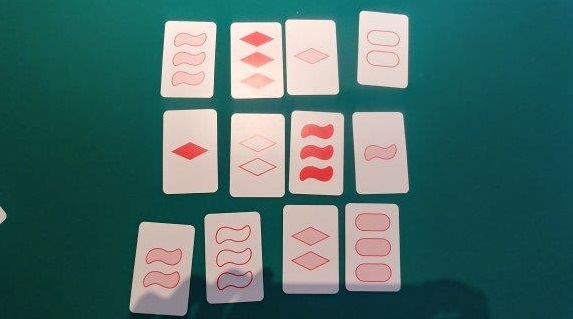1FD: (164, 113, 213, 189)
1HD: (288, 21, 334, 91)
1HW: (357, 112, 400, 189)
2ED: (233, 114, 280, 192)
2EP: (361, 15, 402, 81)
2HD: (284, 206, 335, 291)
2HW: (140, 226, 185, 309)
3EW: (205, 213, 257, 300)
3FD: (230, 21, 277, 94)
3FW: (294, 112, 340, 191)
3HP: (346, 205, 396, 288)
3HW: (164, 23, 210, 95)
